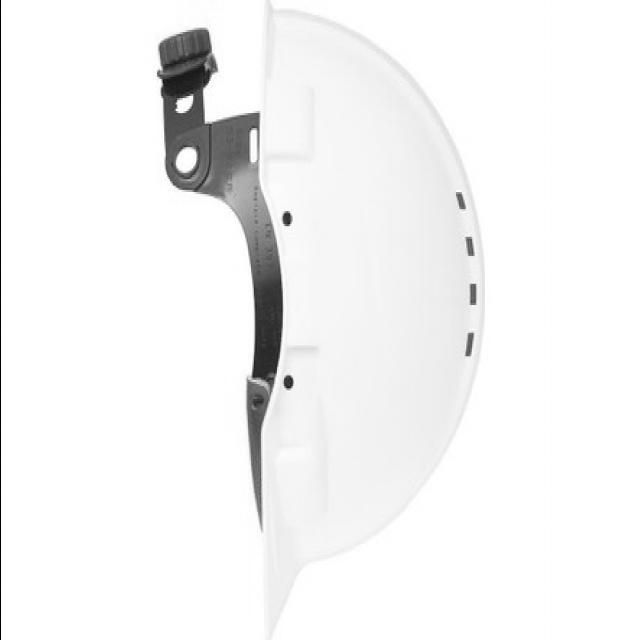safety_helmet: (156, 4, 487, 640)
